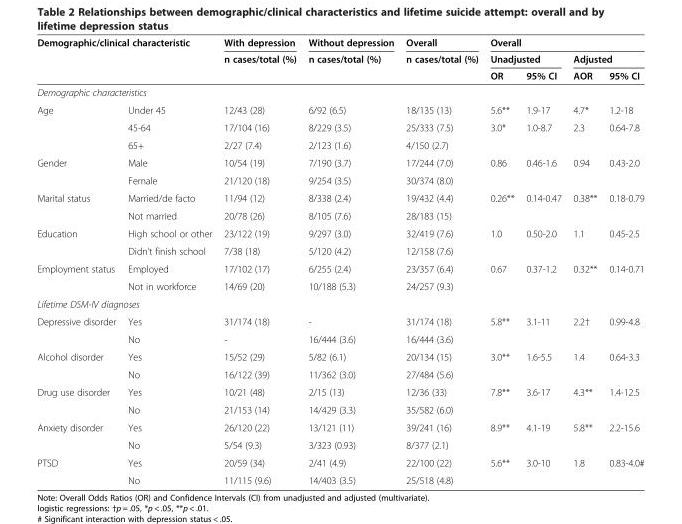table: (36, 36, 643, 485)
table column: (301, 36, 399, 485), (121, 36, 217, 485), (36, 36, 121, 485), (217, 36, 301, 485), (399, 36, 483, 485), (519, 36, 566, 485), (602, 36, 643, 485), (483, 36, 519, 485), (566, 36, 602, 485)
table column header: (36, 36, 643, 83)
table projected row header: (36, 294, 643, 312), (36, 83, 643, 100)
table row: (36, 100, 643, 118), (36, 118, 643, 136), (36, 153, 643, 171), (36, 188, 643, 206), (36, 206, 643, 224), (36, 241, 643, 259), (36, 259, 643, 277), (36, 294, 643, 312), (36, 312, 643, 330), (36, 347, 643, 365), (36, 382, 643, 400), (36, 400, 643, 418), (36, 435, 643, 453), (36, 453, 643, 471), (36, 66, 643, 83), (36, 83, 643, 100), (36, 136, 643, 153), (36, 171, 643, 188), (36, 224, 643, 241), (36, 277, 643, 294), (36, 330, 643, 347), (36, 365, 643, 382), (36, 418, 643, 435), (36, 50, 643, 66), (36, 36, 643, 50), (36, 471, 643, 485)
table spanning cell: (301, 36, 399, 83), (36, 100, 121, 153), (217, 36, 301, 83), (399, 36, 483, 83), (36, 188, 121, 224), (36, 382, 121, 418), (36, 153, 121, 188), (36, 224, 121, 259), (36, 259, 121, 294), (36, 312, 121, 347), (36, 347, 121, 382), (36, 418, 121, 453), (36, 453, 121, 485), (36, 36, 217, 50), (483, 36, 643, 50), (483, 50, 566, 66), (566, 50, 643, 66)
